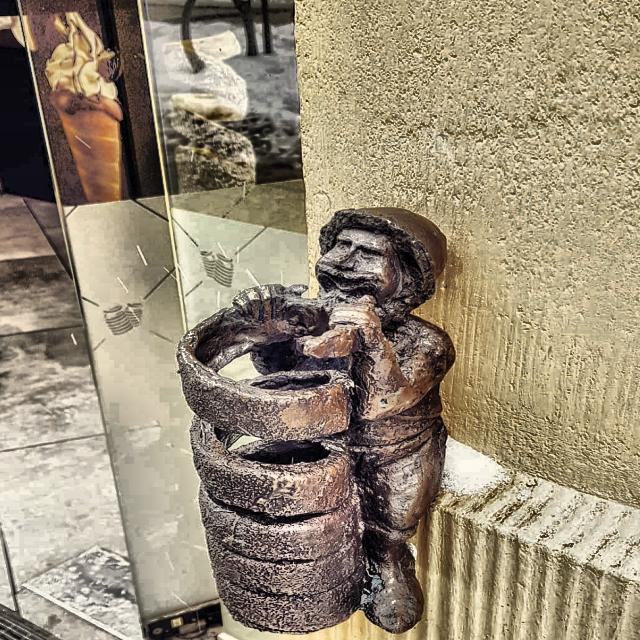Czimnejek: (172, 200, 470, 636)
